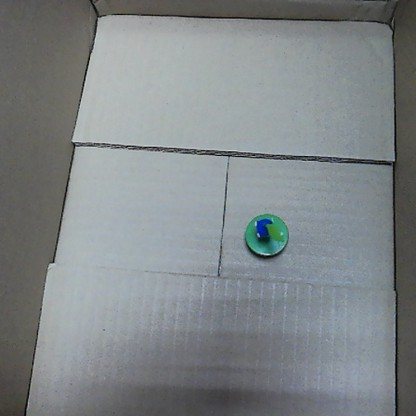leafairy: (240, 208, 289, 261)
